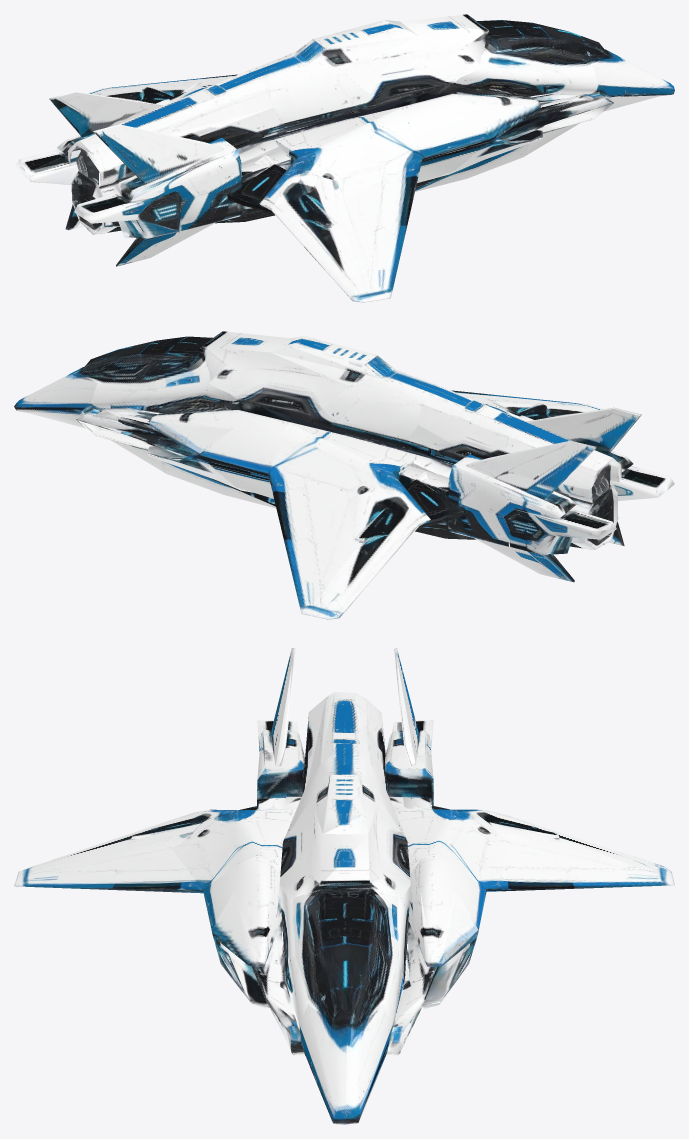
The model's file is icarus.glb.
3 views of the same model, one above another, from view 1: azimuth 30°, elevation 25°; view 2: azimuth 150°, elevation 25°; view 3: azimuth 270°, elevation 25° (orthographic). The views are drawn at different scales.
Parts seen in each view (by area): view 1: mesh_node; view 2: mesh_node; view 3: mesh_node.
Boxes of the visible parts, left/top/right/bottom form: mesh_node: left=14, top=14, right=674, bottom=302; mesh_node: left=14, top=331, right=674, bottom=619; mesh_node: left=14, top=648, right=674, bottom=1124.
Bounding box in the file's own units: 2 × 0.5313 × 1.61.
Materials: 1 (1 with a texture image).
